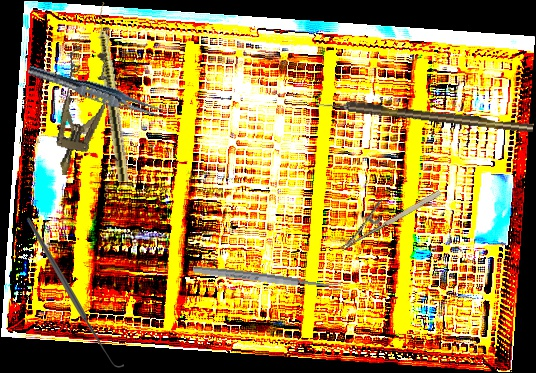Handpiece: (92, 1, 132, 183)
Hook Surgical: (26, 217, 124, 368), (317, 96, 534, 135)
Needle Holder: (328, 173, 444, 252)
Speculum: (39, 43, 120, 182)
Surgical Spoon: (192, 264, 342, 293)
Tissue Forceps: (25, 62, 169, 123)
